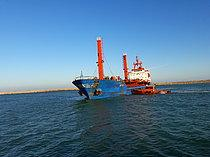Ship: (70, 34, 157, 102)
